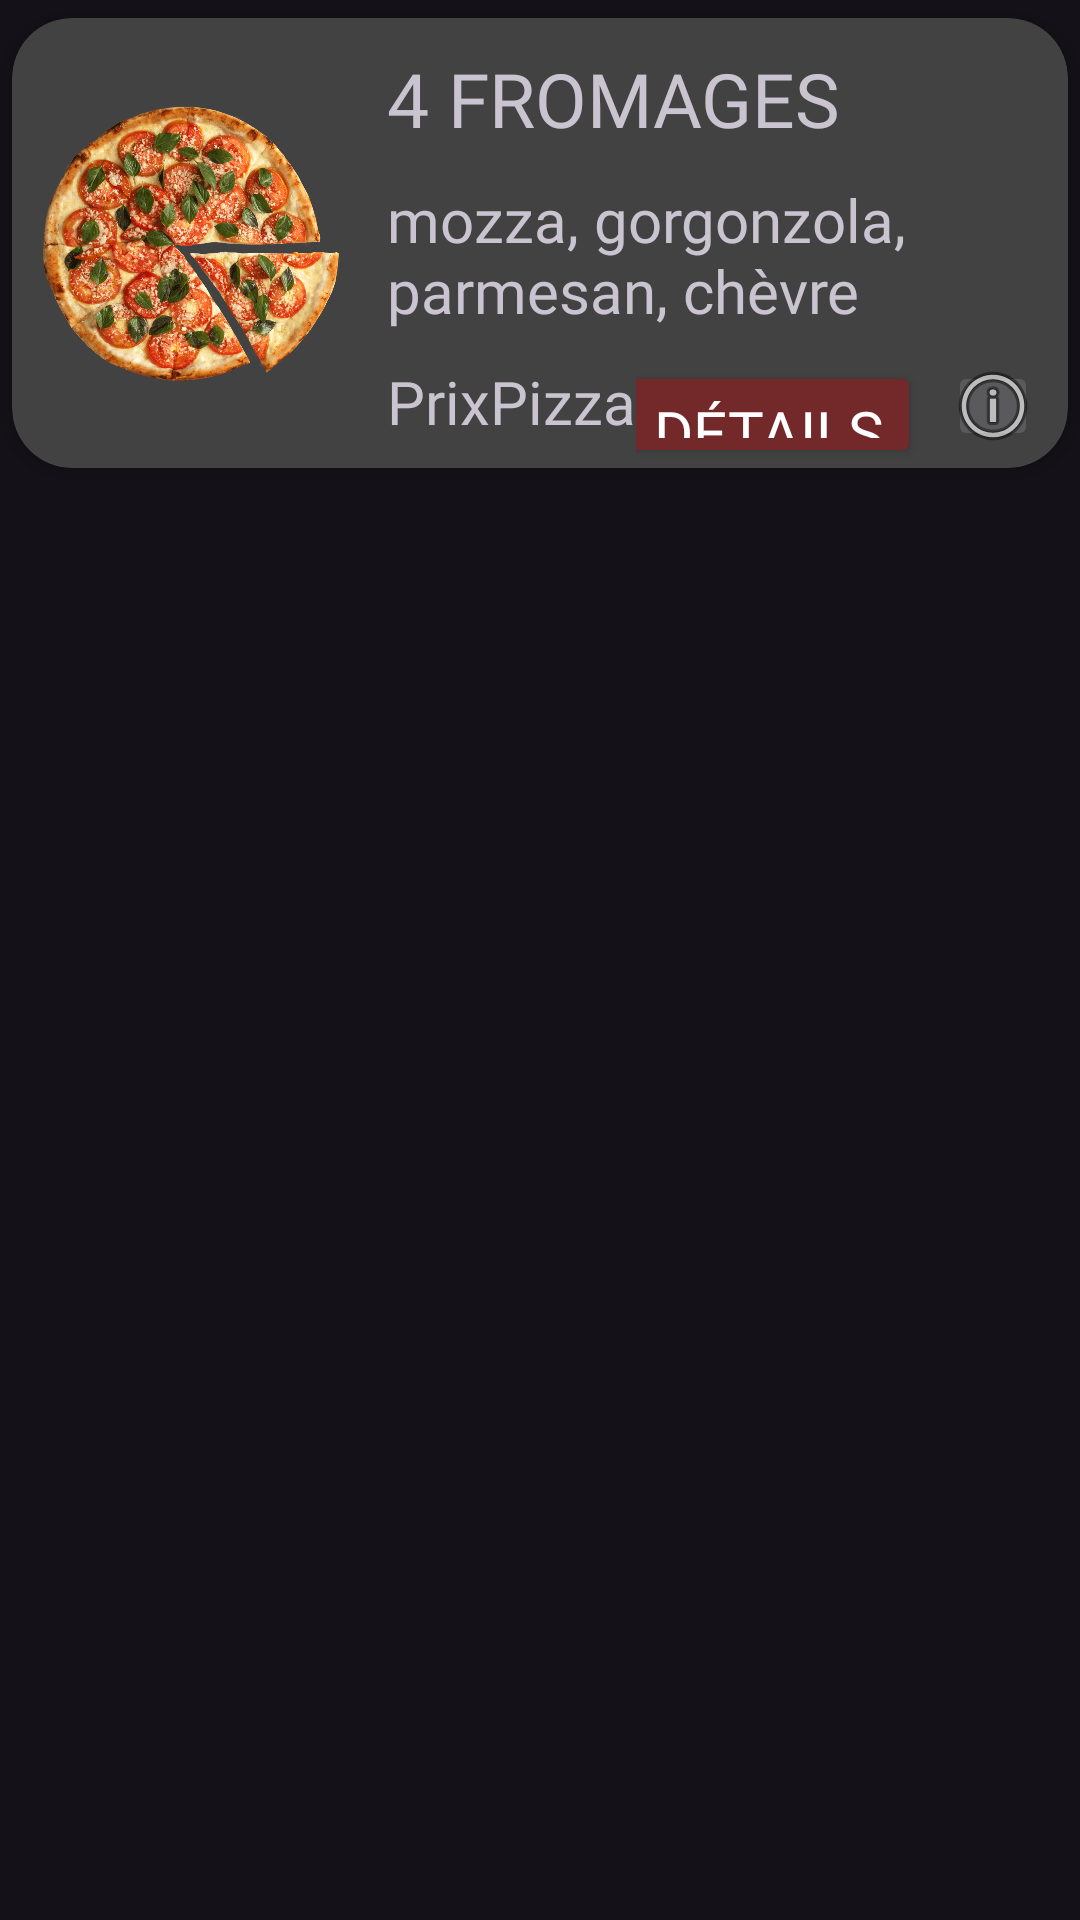

Icon click points for this 1080px×1920px phone screenshot, format (x=x, y=y):
info details: (x=993, y=406)
